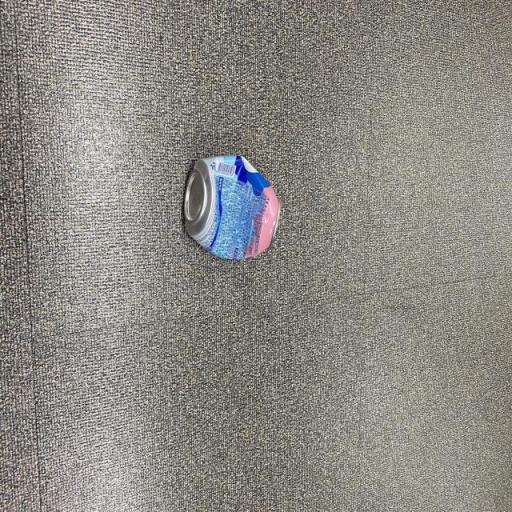metal: (170, 139, 300, 291)
